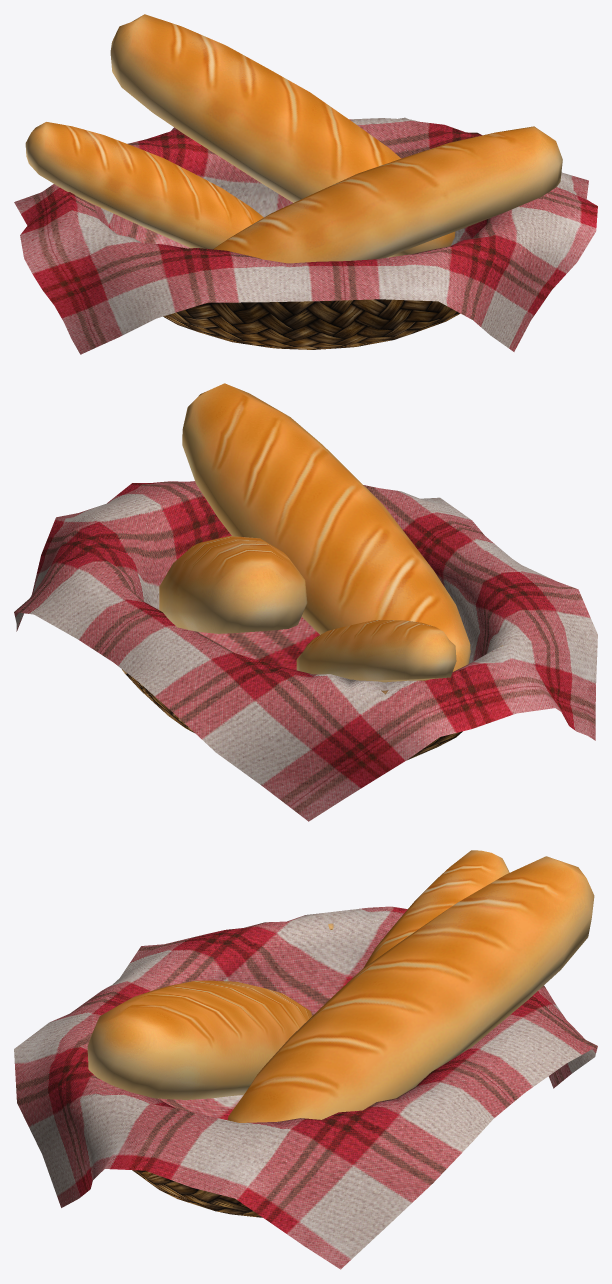
Rendered from panierPain.fbx.
3 views of the same model, one above another, from view 1: azimuth 30°, elevation 25°; view 2: azimuth 150°, elevation 25°; view 3: azimuth 270°, elevation 25° (orthographic). The views are drawn at different scales.
Parts seen in each view (by area): view 1: Salon_Entier:Tissu_Panier_Pain, Salon_Entier:Pain, Salon_Entier:Pain1, Salon_Entier:Pain2, Salon_Entier:Panier_Pain; view 2: Salon_Entier:Tissu_Panier_Pain, Salon_Entier:Pain1, Salon_Entier:Pain, Salon_Entier:Pain2, Salon_Entier:Panier_Pain; view 3: Salon_Entier:Tissu_Panier_Pain, Salon_Entier:Pain, Salon_Entier:Pain1, Salon_Entier:Pain2, Salon_Entier:Panier_Pain.
Boxes of the visible parts, x1=… form: Salon_Entier:Tissu_Panier_Pain: x1=14, y1=117, x2=597, y2=354; Salon_Entier:Pain: x1=110, y1=14, x2=455, y2=257; Salon_Entier:Pain1: x1=213, y1=126, x2=562, y2=263; Salon_Entier:Pain2: x1=25, y1=122, x2=263, y2=249; Salon_Entier:Panier_Pain: x1=163, y1=299, x2=460, y2=349; Salon_Entier:Tissu_Panier_Pain: x1=14, y1=481, x2=597, y2=821; Salon_Entier:Pain1: x1=182, y1=383, x2=470, y2=680; Salon_Entier:Pain: x1=159, y1=536, x2=307, y2=633; Salon_Entier:Pain2: x1=296, y1=620, x2=456, y2=682; Salon_Entier:Panier_Pain: x1=122, y1=645, x2=502, y2=760; Salon_Entier:Tissu_Panier_Pain: x1=14, y1=906, x2=597, y2=1269; Salon_Entier:Pain: x1=228, y1=856, x2=594, y2=1122; Salon_Entier:Pain1: x1=87, y1=980, x2=312, y2=1099; Salon_Entier:Pain2: x1=363, y1=850, x2=509, y2=967; Salon_Entier:Panier_Pain: x1=132, y1=923, x2=333, y2=1217.
Bounding box in the file's own units: 1.8 × 0.8237 × 1.55.
3 materials, 3 textured.
